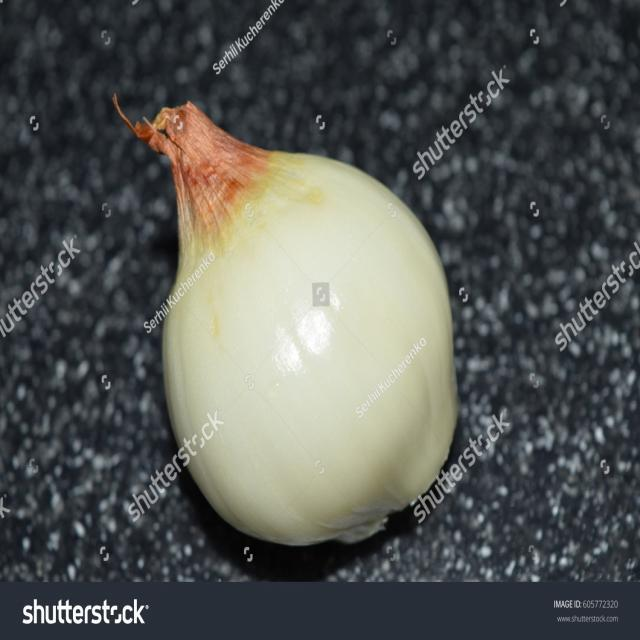onion: (144, 98, 466, 557)
